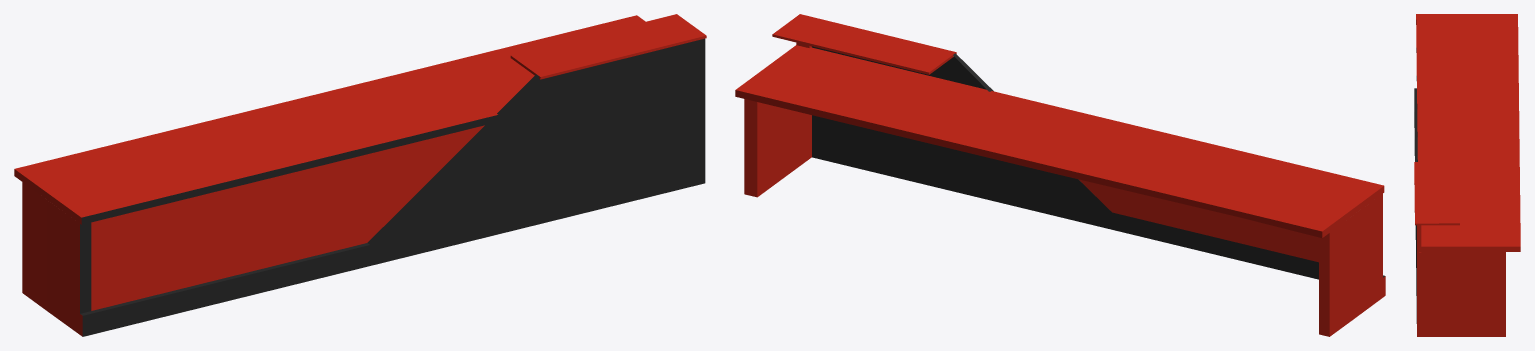
File: reception_balcony.glb
3 renders of one model, left to right at view 1: azimuth 30°, elevation 25°; view 2: azimuth 150°, elevation 25°; view 3: azimuth 270°, elevation 25°, orthographic. The views are drawn at different scales.
Visible parts, largest first — view 1: Cube; view 2: Cube; view 3: Cube.
Boxes of the visible parts, left/top/right/bottom form: Cube: left=14, top=14, right=706, bottom=336; Cube: left=735, top=14, right=1385, bottom=336; Cube: left=1414, top=14, right=1520, bottom=336.
Size of the model in its own units: 4.42 by 1 by 0.8551.
